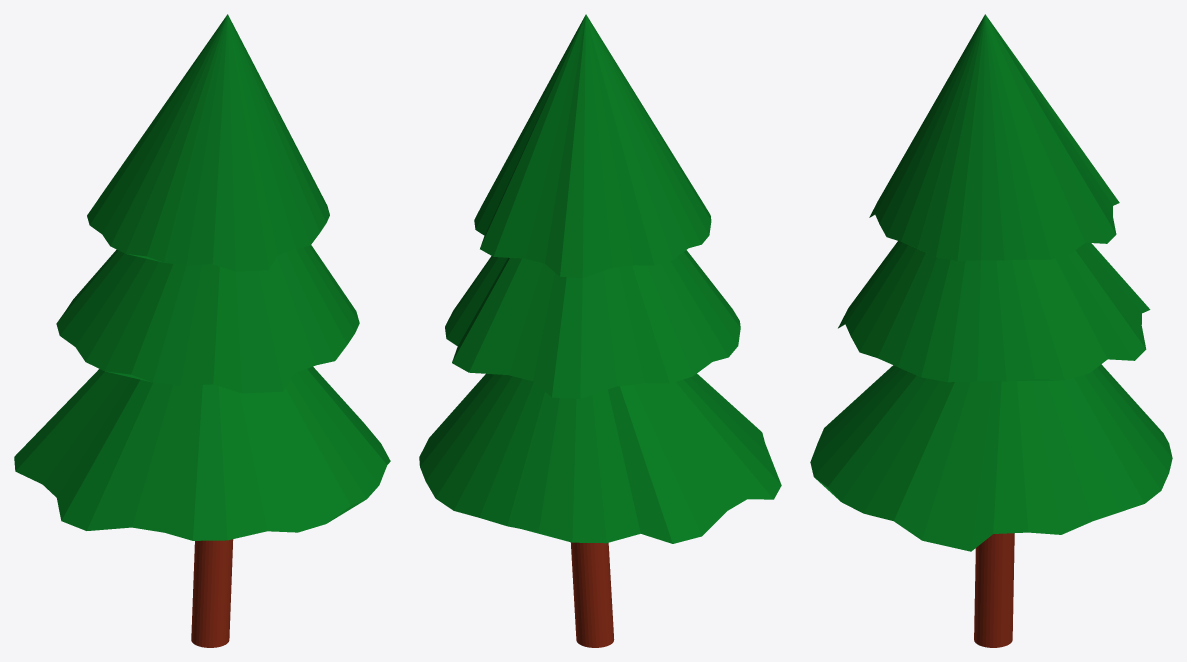
Rendered from tree.gltf.
3 renders of one model, left to right at view 1: azimuth 30°, elevation 25°; view 2: azimuth 150°, elevation 25°; view 3: azimuth 270°, elevation 25°, orthographic. The views are drawn at different scales.
Parts seen in each view (by area): view 1: Leaves, Leaves.001, Leaves.002, Trunk; view 2: Leaves, Leaves.001, Leaves.002, Trunk; view 3: Leaves, Leaves.001, Leaves.002, Trunk.
Boxes of the visible parts, box(x1,y1,x2,y2) form: Leaves: box(14, 366, 390, 540); Leaves.001: box(87, 14, 329, 271); Leaves.002: box(56, 245, 359, 393); Trunk: box(191, 539, 233, 647); Leaves: box(419, 373, 781, 543); Leaves.001: box(474, 14, 711, 277); Leaves.002: box(445, 250, 740, 399); Trunk: box(570, 542, 614, 647); Leaves: box(810, 364, 1172, 551); Leaves.001: box(869, 14, 1119, 260); Leaves.002: box(838, 241, 1150, 382); Trunk: box(974, 533, 1014, 647).
Size of the model in its own units: 4.87 by 8.97 by 4.66.
